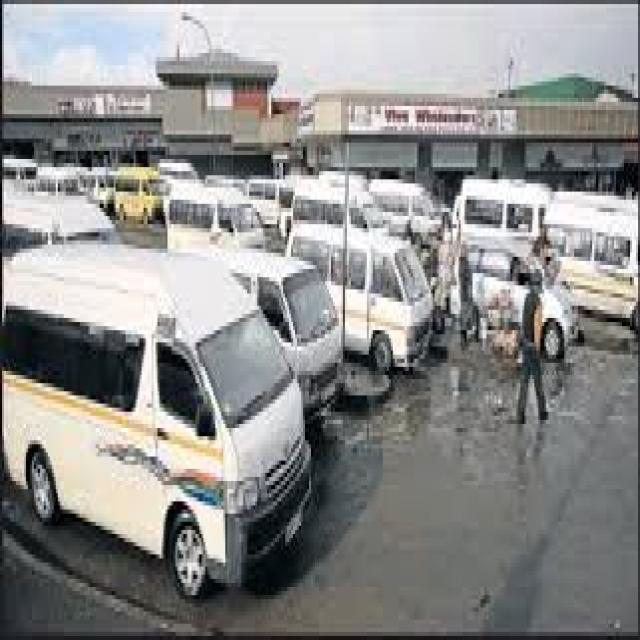MiniBus taxi: (2, 249, 317, 607), (341, 232, 439, 363), (287, 261, 347, 416)
Pedestrians: (518, 261, 548, 428)
